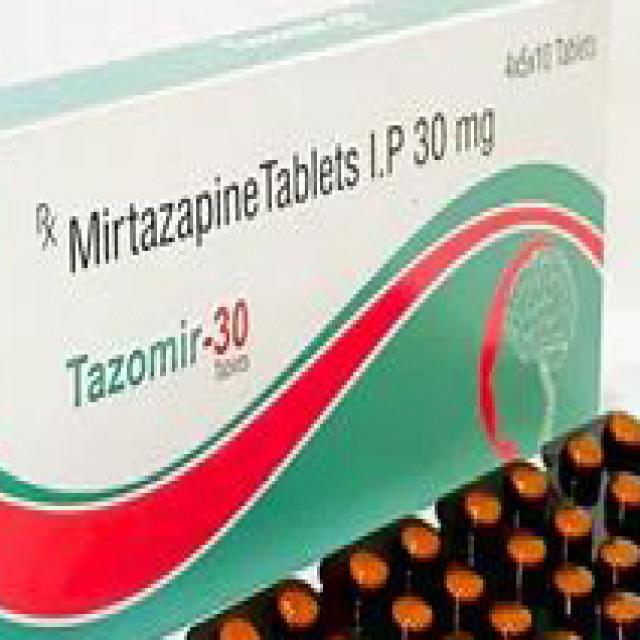drug-name: (63, 296, 251, 414)
